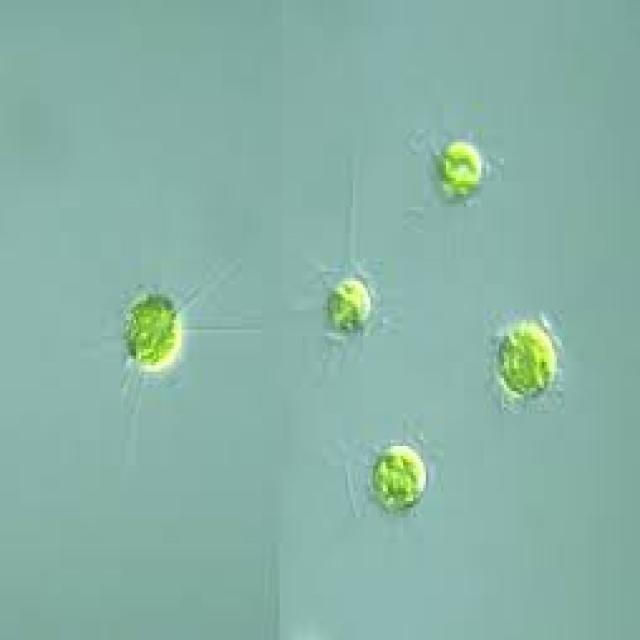Green Algae: (96, 265, 242, 411), (308, 217, 396, 375), (345, 427, 444, 530), (408, 120, 499, 223), (489, 307, 559, 411)
